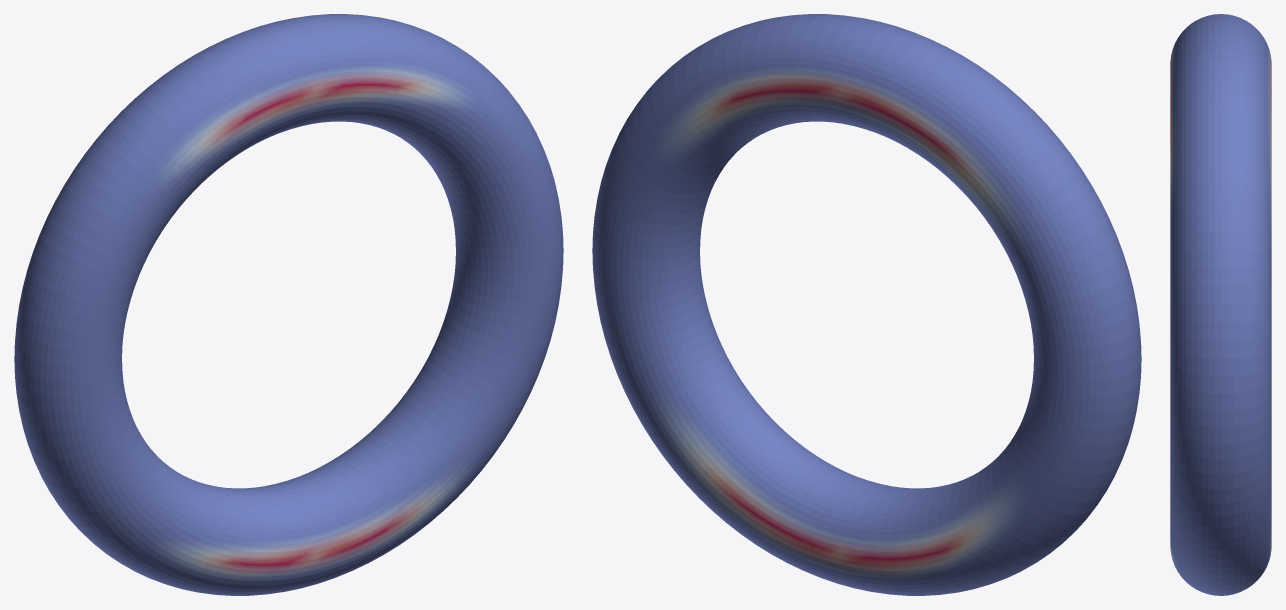
The picture shows the model from 3 angles, left to right: view 1: azimuth 30°, elevation 25°; view 2: azimuth 150°, elevation 25°; view 3: azimuth 270°, elevation 25°; orthographic projection. The views are drawn at different scales.
Visible parts, largest first — view 1: world; view 2: world; view 3: world.
Boxes of the visible parts, left/top/right/bottom form: world: left=14, top=14, right=563, bottom=595; world: left=592, top=14, right=1141, bottom=595; world: left=1170, top=14, right=1271, bottom=595.
Size of the model in its own units: 14.53 by 14.53 by 2.53.
